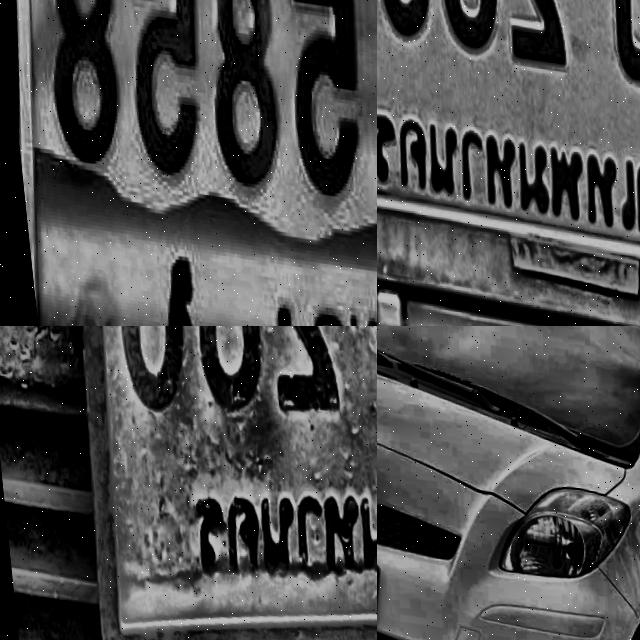license-plate: (0, 0, 377, 326), (3, 326, 377, 640), (377, 0, 640, 326)
